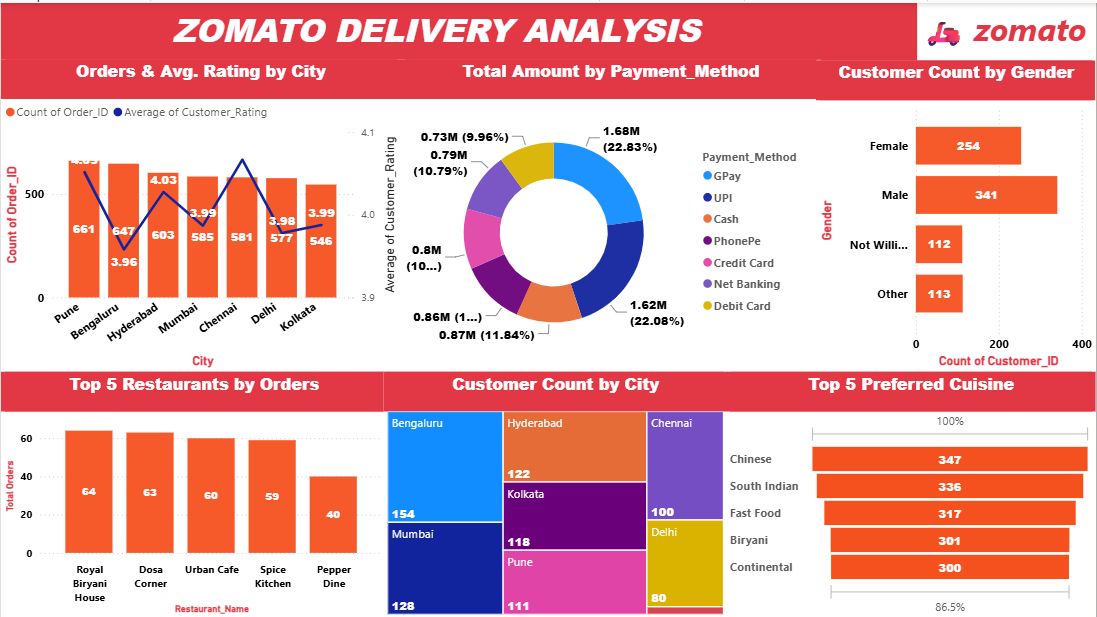

The dashboard page shown, as its layout file describes it:
{"tool":"powerbi","page":{"name":"Page 2","canvas":[1280,720],"ordinal":1},"visuals":[{"type":"textbox","box":[0,0,1070.2,68.1],"z":0},{"type":"textbox","box":[1069.9,0,210.1,68.1],"z":1000},{"type":"lineClusteredColumnComboChart","title":"Orders & Avg. Rating by City","fields":{"Category":["Restaurants__2.City"],"Y":["CountNonNull(Orders_2.Order_ID)"],"Y2":["Avg(Orders_2.Customer_Rating)"]},"box":[0,66.3,467.1,364.8],"z":2000},{"type":"columnChart","title":"Top 5 Restaurants by Orders","fields":{"Category":["Restaurants__2.Restaurant_Name"],"Y":["Orders_2.Total Orders"]},"box":[0,431.1,451.3,288.4],"z":3000},{"type":"donutChart","title":"Total Amount by Payment_Method","fields":{"Category":["Orders_2.Payment_Method"],"Y":["Sum(Orders_2.Final_Amount)"]},"box":[467.1,66.3,490.2,363.3],"z":4000},{"type":"treemap","title":"Customer Count by City","fields":{"Group":["Customers_2.City"],"Values":["CountNonNull(Customers_2.Customer_ID)"]},"box":[446.9,431.1,402.3,288.4],"z":5000},{"type":"barChart","title":"Customer Count by Gender","fields":{"Category":["Customers_2.Gender"],"Y":["Count(Customers_2.Customer_ID)"]},"box":[951.1,66.5,327.6,364],"z":6000},{"type":"funnel","title":"Top 5 Preferred Cuisine","fields":{"Category":["Customers_2.Preferred_Cuisine"],"Y":["Sum(Customers_2.Total_Orders)"]},"box":[846.3,431.1,432.5,288.4],"z":7000}]}

Visuals, with their boxes in screenshot pixels (x1, y1, x2, y2), scaled from the page's 1280x720 canvas onto the 1097x617 screenshot:
textbox: 0/0/917/58
textbox: 917/0/1096/58
"Orders & Avg. Rating by City" lineClusteredColumnComboChart: 0/57/400/369
"Top 5 Restaurants by Orders" columnChart: 0/369/387/616
"Total Amount by Payment_Method" donutChart: 400/57/820/368
"Customer Count by City" treemap: 383/369/728/616
"Customer Count by Gender" barChart: 815/57/1096/369
"Top 5 Preferred Cuisine" funnel: 725/369/1096/616
